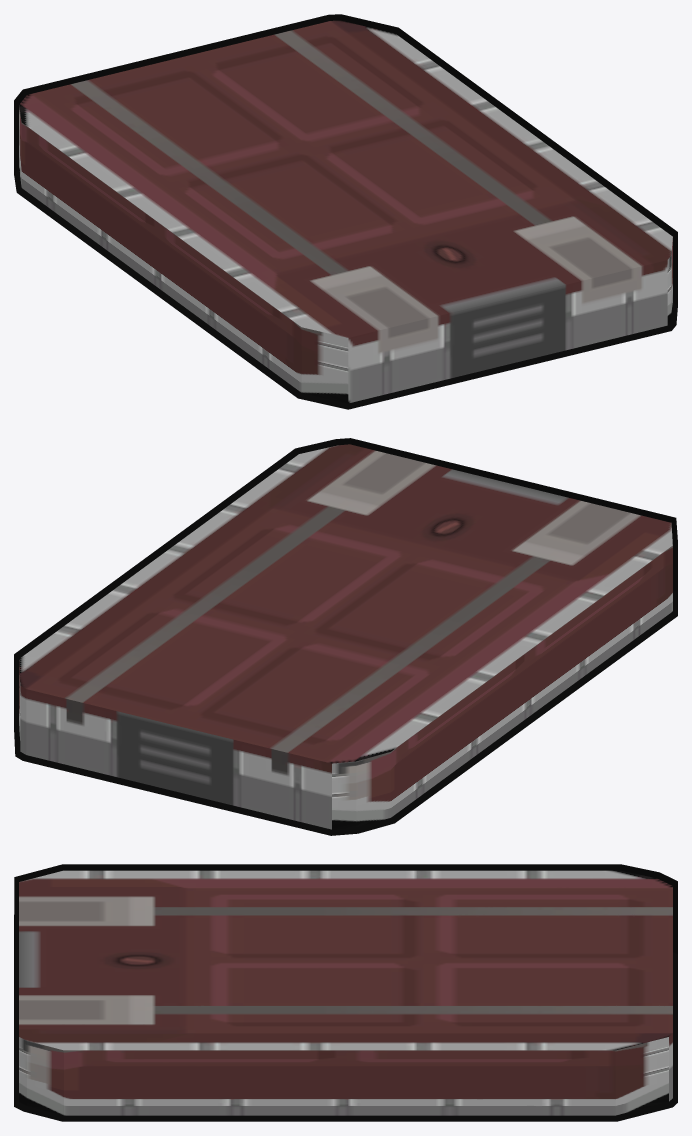
File: Building_LargeChemfuelTank_Things_Building_LargeChemfuelTank_LargeChemfuelTank.glb
3 views of the same model, one above another, from view 1: azimuth 30°, elevation 25°; view 2: azimuth 150°, elevation 25°; view 3: azimuth 270°, elevation 25° (orthographic).
Parts seen in each view (by area): view 1: Body, Outline; view 2: Body, Outline; view 3: Body, Outline.
Boxes of the visible parts, x1,y1,x2,y2 form: Body: [19, 20, 672, 403]; Outline: [14, 14, 677, 409]; Body: [19, 444, 672, 829]; Outline: [14, 438, 677, 835]; Body: [19, 870, 672, 1115]; Outline: [14, 864, 677, 1121].
Size of the model in its own units: 1.49 by 0.2769 by 2.27.
Materials: 2 (1 with a texture image).
